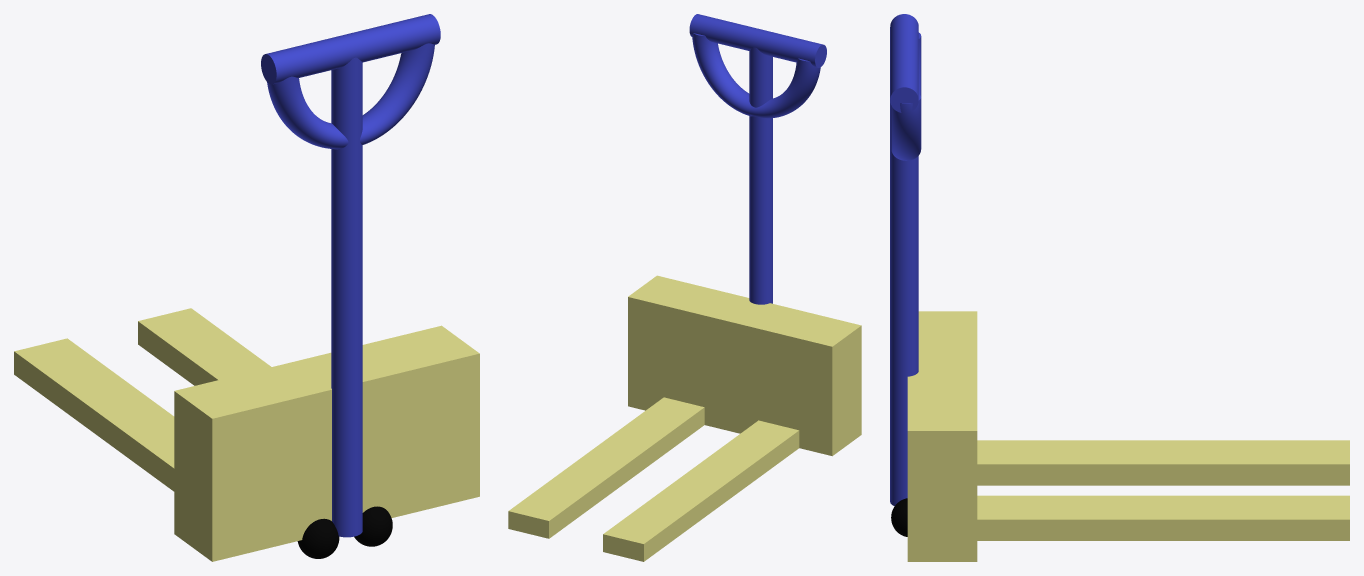
The model's file is Pallet lifter.fbx.
3 views of the same model, side by side, from view 1: azimuth 30°, elevation 25°; view 2: azimuth 150°, elevation 25°; view 3: azimuth 270°, elevation 25° (orthographic). The views are drawn at different scales.
Visible parts, largest first — view 1: root (×9); view 2: root (×7); view 3: root (×6).
Part boxes in pixels (<box>): root (×9): <box>14,14,479,561</box>; root (×7): <box>508,14,861,561</box>; root (×6): <box>890,14,1349,561</box>.
Size of the model in its own units: 0.2318 by 0.4288 by 0.3767.
Materials: 7 (4 with a texture image).
